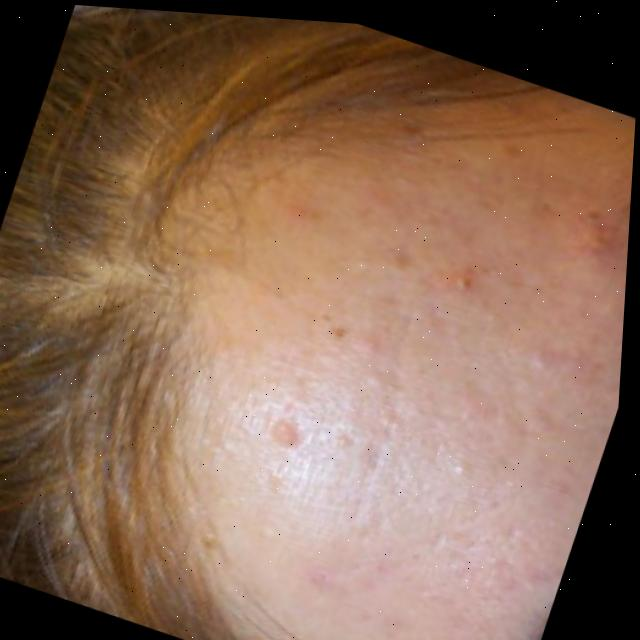Acne: (247, 106, 635, 559)
